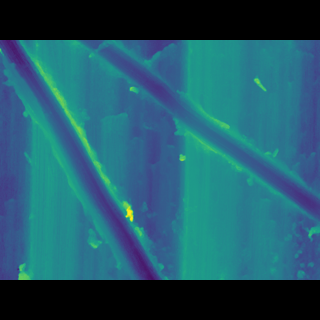Loch: (65, 69, 319, 208), (0, 68, 167, 250)
